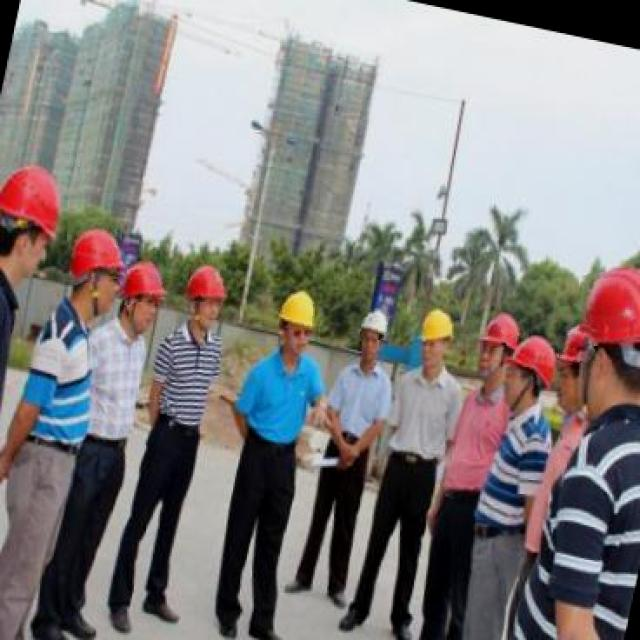helmet: (2, 163, 61, 240), (581, 270, 640, 345), (68, 226, 127, 284), (506, 335, 557, 390), (118, 259, 169, 303), (185, 263, 227, 302), (279, 289, 318, 330), (480, 313, 522, 351), (556, 324, 594, 365), (420, 308, 454, 342), (361, 309, 390, 340)
